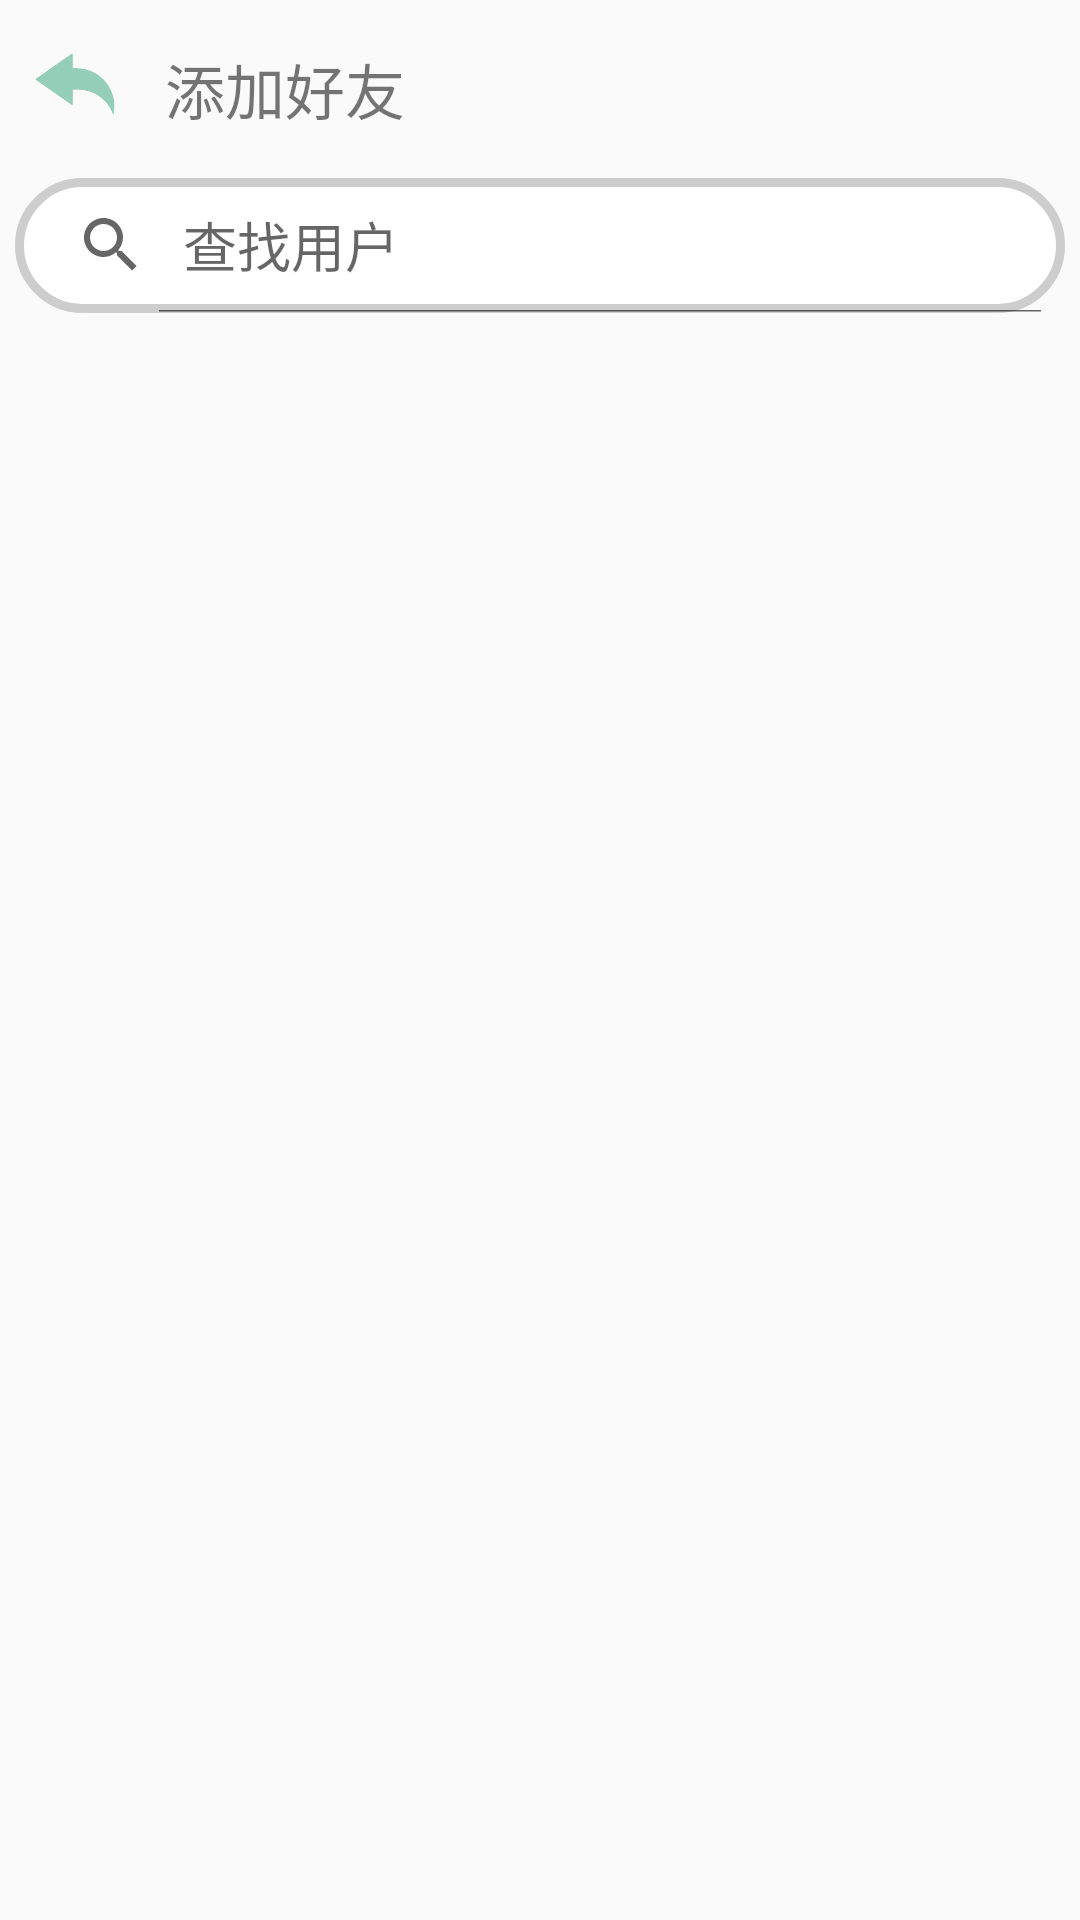

Screen size 1080x1920. Icon name, then its center in pixels as point (x, y):
back: point (75, 84)
